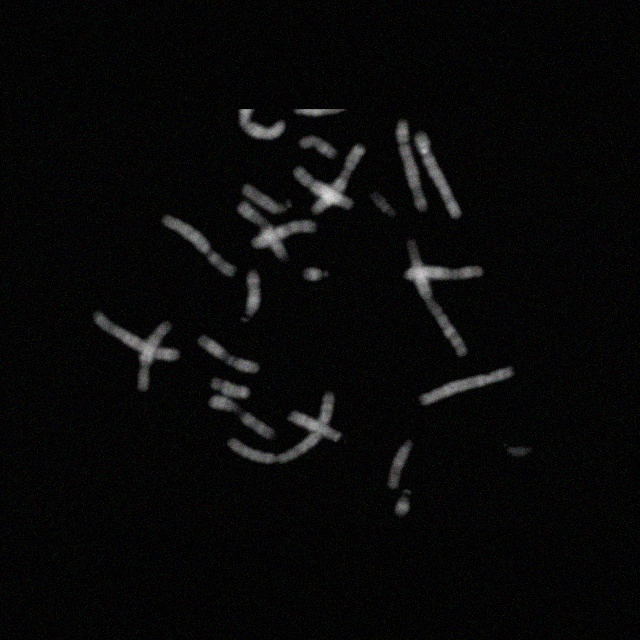chromosome: (226, 391, 336, 465), (407, 236, 468, 356), (162, 215, 236, 277), (92, 310, 180, 362), (414, 130, 462, 220), (313, 144, 367, 216), (420, 367, 512, 405), (236, 202, 288, 260), (395, 120, 427, 212), (208, 395, 274, 439), (197, 334, 259, 374), (294, 166, 352, 208), (137, 322, 169, 392), (252, 220, 318, 248), (288, 411, 342, 443), (242, 182, 292, 214), (404, 264, 484, 282), (239, 109, 285, 139), (388, 439, 414, 489), (241, 270, 261, 322), (210, 376, 250, 398), (300, 134, 336, 158), (372, 192, 396, 218), (394, 489, 412, 516), (302, 266, 328, 282), (507, 444, 529, 458)
